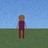person: (16, 15, 27, 38)
